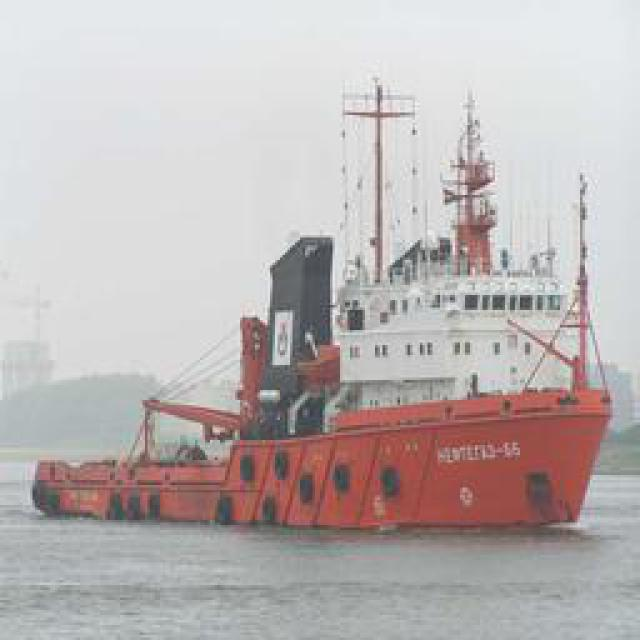Ship: (39, 51, 619, 544)
